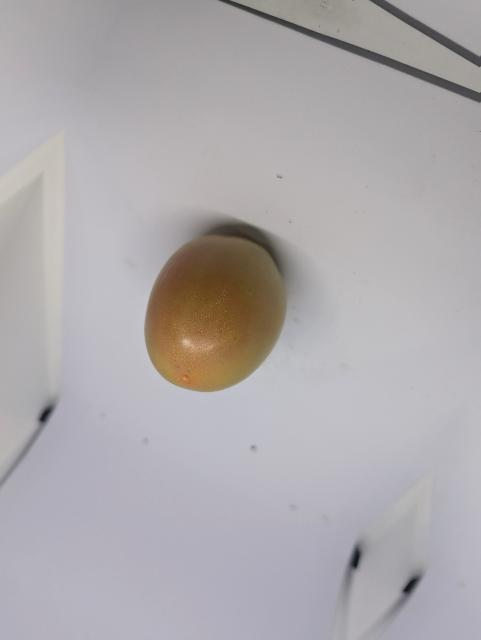turning: (128, 228, 303, 399)
